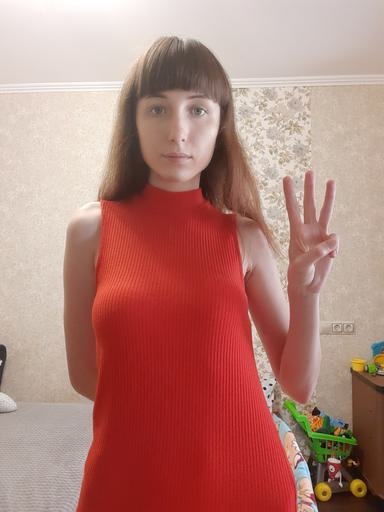three: (281, 168, 342, 298)
